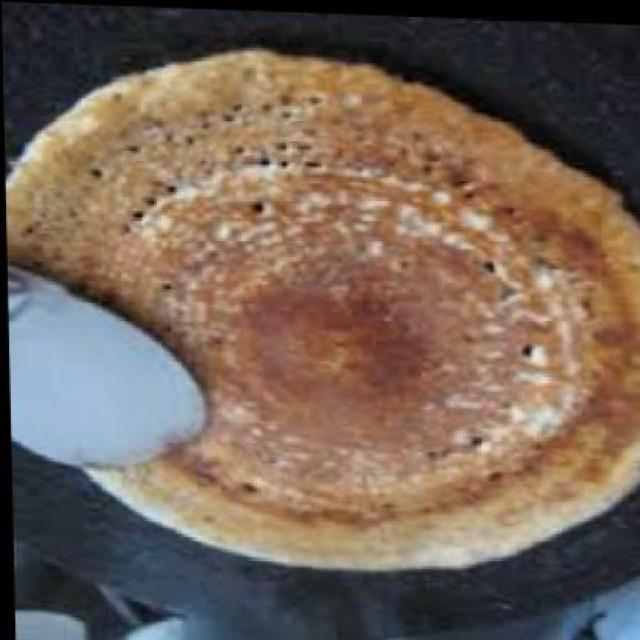dosa: (0, 38, 640, 572)
